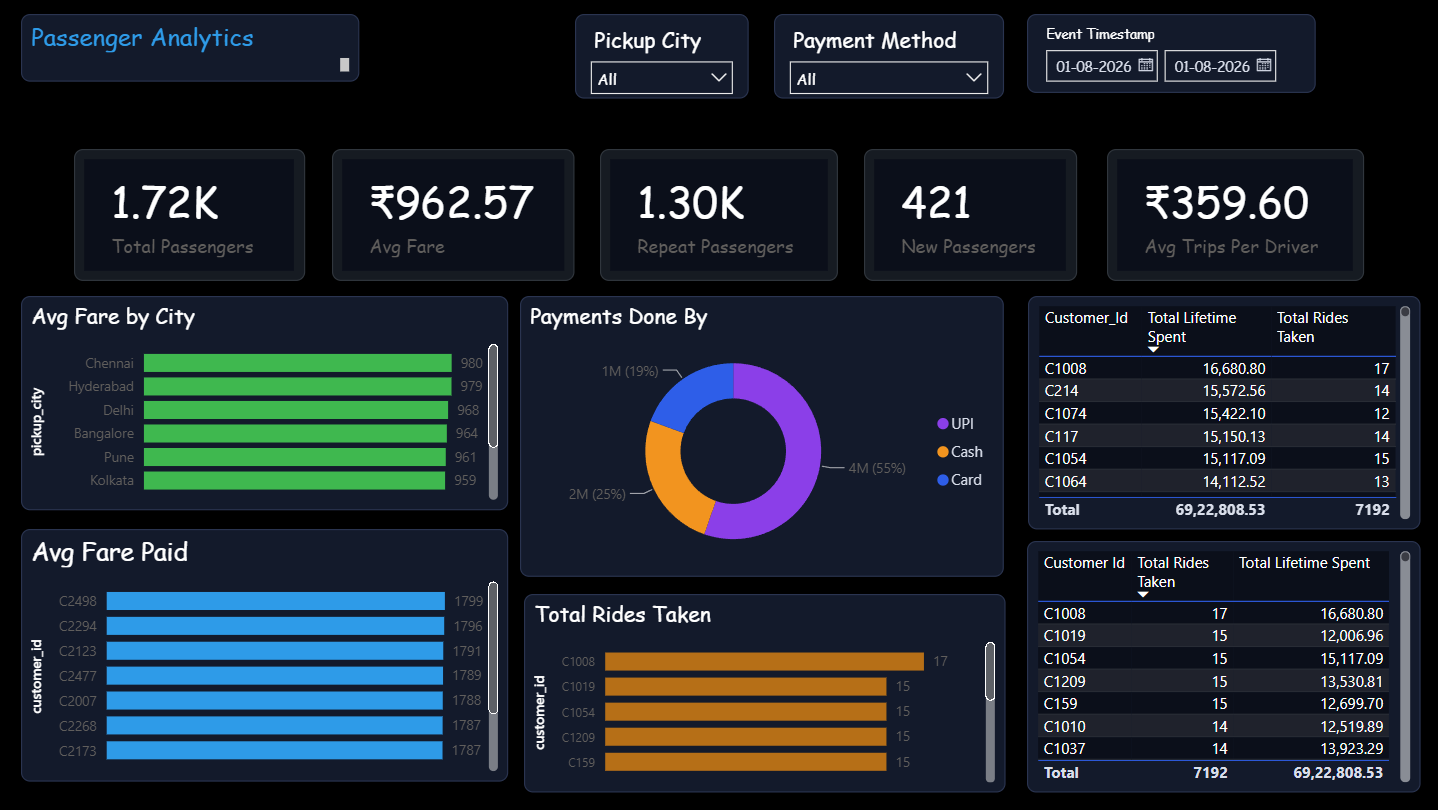

The page's visual inventory and layout, read from the dashboard file:
{"tool":"powerbi","page":{"name":"Passenger Analytics","canvas":[1280,720],"ordinal":2},"visuals":[{"type":"slicer","fields":{"Values":["fact_ride_events.event_timestamp"]},"box":[913.3,14.2,256.3,70],"z":0},{"type":"slicer","fields":{"Values":["fact_ride_events.pickup_city"]},"box":[512.5,14.2,154.3,75.4],"z":1000},{"type":"slicer","fields":{"Values":["fact_ride_events.payment_method"]},"box":[689,14.2,203.9,75.4],"z":2000},{"type":"tableEx","fields":{"Values":["dim_passenger.customer_id","Sum(dim_passenger.total_rides_taken)","Sum(dim_passenger.total_lifetime_spent)"]},"box":[913.3,481.5,349.4,223.4],"z":3000},{"type":"clusteredBarChart","title":"Total Rides Taken ","fields":{"Category":["dim_passenger.customer_id"],"Y":["Sum(dim_passenger.total_rides_taken)"]},"box":[467.3,528.5,426.5,176.5],"z":4000},{"type":"clusteredBarChart","title":"Avg Fare by City","fields":{"Category":["fact_ride_events.pickup_city"],"Y":["_Measures.Avg Fare"]},"box":[21.4,264.6,431.9,189.7],"z":5000},{"type":"donutChart","title":"Payments Done By","fields":{"Y":["_Measures.Total Revenue"],"Category":["fact_ride_events.payment_method"]},"box":[463.7,264.2,429.2,249.2],"z":6000},{"type":"cardVisual","fields":{"Data":["_Measures3.Total Passengers"]},"box":[68.3,133.9,204.8,117],"z":7000},{"type":"cardVisual","fields":{"Data":["_Measures2.Avg Trips Per Driver"]},"box":[984.2,133.9,227.9,117],"z":8000},{"type":"cardVisual","fields":{"Data":["_Measures3.New Passengers"]},"box":[768.8,133.9,188.9,117],"z":9000},{"type":"cardVisual","fields":{"Data":["_Measures3.Repeat Passengers"]},"box":[534.7,133.9,211,117],"z":11000},{"type":"cardVisual","fields":{"Data":["_Measures.Avg Fare"]},"box":[297,133.9,215.5,117],"z":12000},{"type":"clusteredBarChart","title":"Avg Fare Paid","fields":{"Category":["dim_passenger.customer_id"],"Y":["Sum(dim_passenger.avg_fare_paid)"]},"box":[21.4,470.8,431.9,223.7],"z":13000},{"type":"textbox","title":"Passenger Analytics","box":[21.3,14.2,299.7,60.3],"z":14000},{"type":"tableEx","fields":{"Values":["dim_passenger.customer_id","Sum(dim_passenger.total_lifetime_spent)","Sum(dim_passenger.total_rides_taken)"]},"box":[914.2,264.2,348.5,206.6],"z":15000}]}

Visuals, with their boxes in screenshot pixels (x1, y1, x2, y2), scaled from the page's 1280x720 canvas onto the 1438x810 screenshot:
slicer - fact_ride_events.event_timestamp: (left=1026, top=16, right=1314, bottom=95)
slicer - fact_ride_events.pickup_city: (left=576, top=16, right=749, bottom=101)
slicer - fact_ride_events.payment_method: (left=774, top=16, right=1003, bottom=101)
tableEx - dim_passenger.customer_id x Sum(dim_passenger.total_rides_taken): (left=1026, top=542, right=1419, bottom=793)
"Total Rides Taken " clusteredBarChart: (left=525, top=595, right=1004, bottom=793)
"Avg Fare by City" clusteredBarChart: (left=24, top=298, right=509, bottom=511)
"Payments Done By" donutChart: (left=521, top=297, right=1003, bottom=578)
cardVisual - _Measures3.Total Passengers: (left=77, top=151, right=307, bottom=282)
cardVisual - _Measures2.Avg Trips Per Driver: (left=1106, top=151, right=1362, bottom=282)
cardVisual - _Measures3.New Passengers: (left=864, top=151, right=1076, bottom=282)
cardVisual - _Measures3.Repeat Passengers: (left=601, top=151, right=838, bottom=282)
cardVisual - _Measures.Avg Fare: (left=334, top=151, right=576, bottom=282)
"Avg Fare Paid" clusteredBarChart: (left=24, top=530, right=509, bottom=781)
"Passenger Analytics" textbox: (left=24, top=16, right=361, bottom=84)
tableEx - dim_passenger.customer_id x Sum(dim_passenger.total_lifetime_spent): (left=1027, top=297, right=1419, bottom=530)
